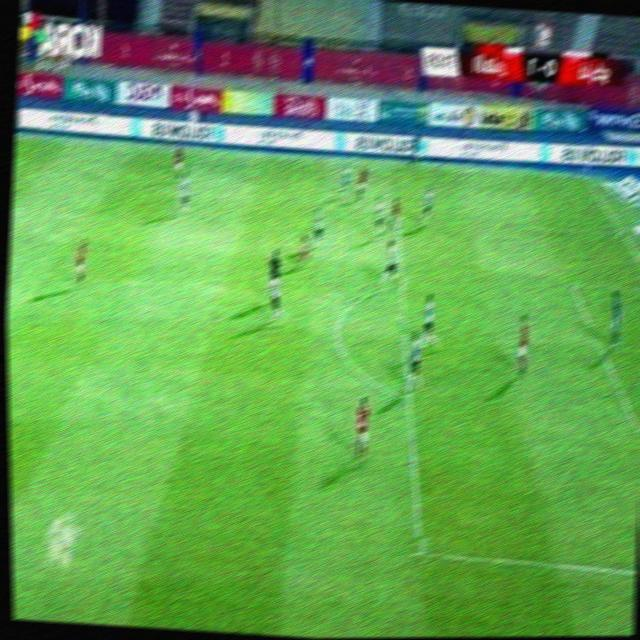bigarea_bottom_inner: (410, 536, 431, 564)
bigarea_top_inner: (391, 216, 403, 231)
bigarea_top_outter: (614, 225, 627, 236)
bottom_arc_area_intersection: (400, 388, 415, 405)
corner: (571, 171, 594, 182)
smallarea_bottom_inner: (631, 418, 640, 442)
smallarea_top_inner: (566, 275, 581, 292)
top_arc_area_intersection: (393, 275, 411, 292)
